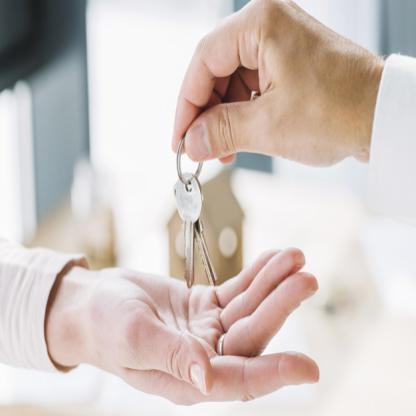keys: (167, 166, 217, 292)
